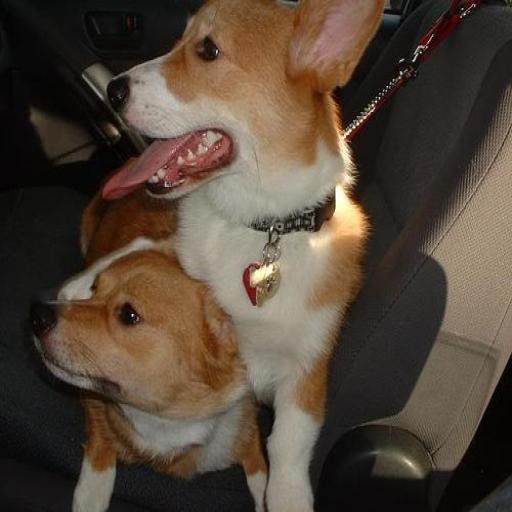dog_face: (106, 5, 389, 201)
